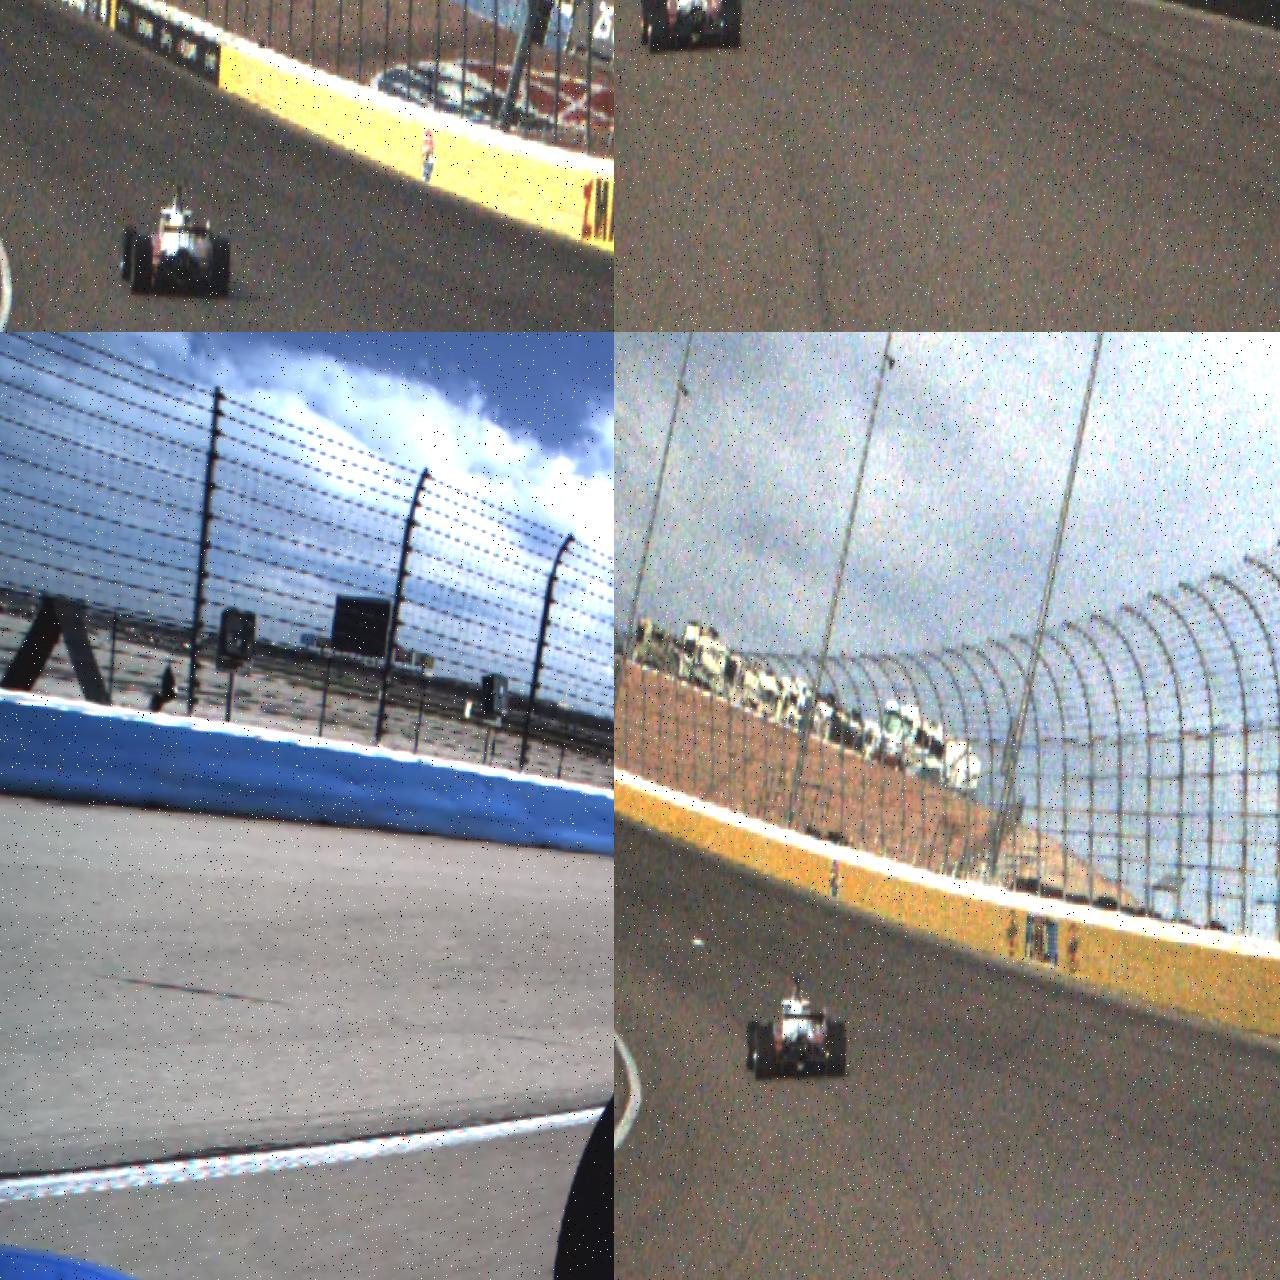AV: (118, 180, 235, 302), (744, 972, 850, 1085), (638, 0, 745, 59)
Wheel: (130, 235, 154, 297), (210, 237, 232, 301), (826, 1021, 848, 1078), (754, 1025, 774, 1080), (119, 223, 137, 283), (648, 0, 668, 54), (721, 0, 743, 48), (745, 1020, 760, 1070), (639, 0, 655, 45)
